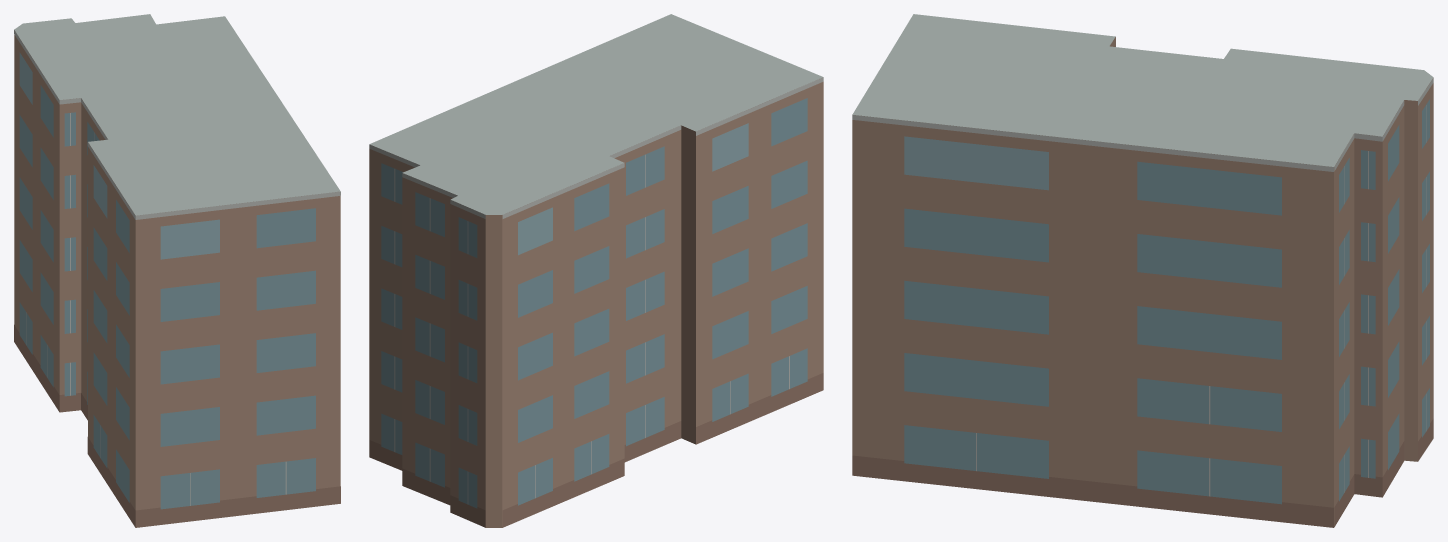
File: survey-upis-32959429.glb
3 views of the same model, side by side, from view 1: azimuth 30°, elevation 25°; view 2: azimuth 150°, elevation 25°; view 3: azimuth 270°, elevation 25° (orthographic). The views are drawn at different scales.
Visible parts, largest first — view 1: survey-upis-32959429.tmp; view 2: survey-upis-32959429.tmp; view 3: survey-upis-32959429.tmp.
Part boxes in pixels (bbox=[...]): survey-upis-32959429.tmp: bbox=[14, 14, 340, 527]; survey-upis-32959429.tmp: bbox=[369, 14, 823, 527]; survey-upis-32959429.tmp: bbox=[852, 14, 1433, 527].
Bounding box in the file's own units: 15.87 × 17.44 × 25.47.
